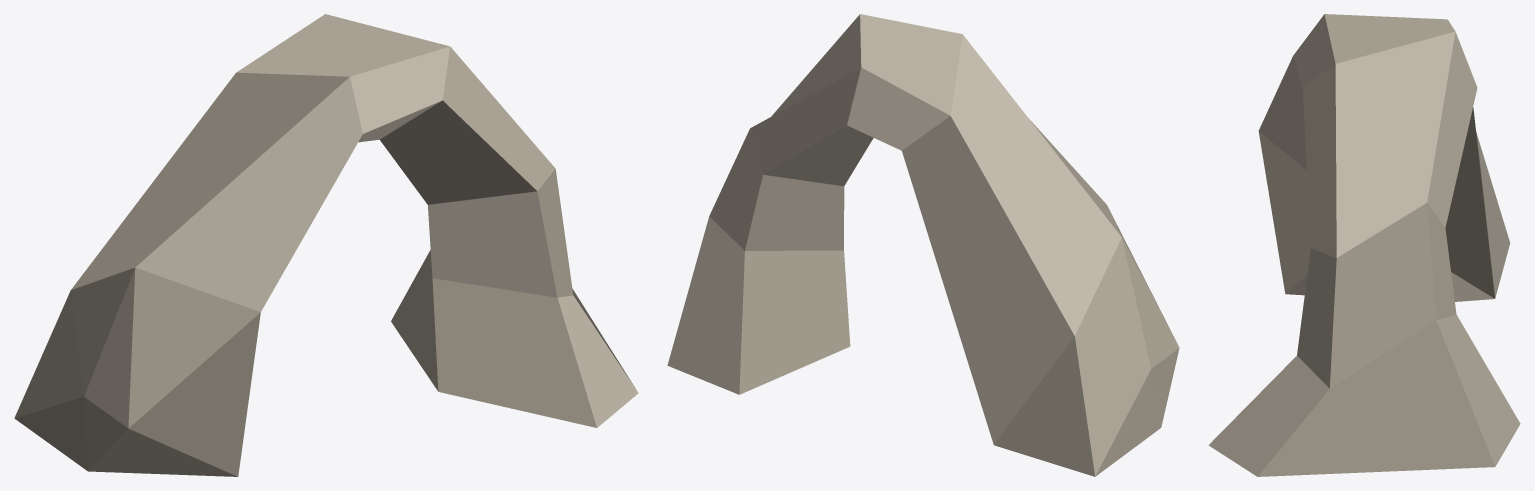
File: Rock 3.fbx
3 renders of one model, left to right at view 1: azimuth 30°, elevation 25°; view 2: azimuth 150°, elevation 25°; view 3: azimuth 270°, elevation 25°, orthographic. The views are drawn at different scales.
Parts seen in each view (by area): view 1: Rock 3; view 2: Rock 3; view 3: Rock 3.
Part boxes in pixels (<box>): Rock 3: <box>14,14,638,476</box>; Rock 3: <box>667,14,1179,476</box>; Rock 3: <box>1208,14,1520,476</box>.
Size of the model in its own units: 575 by 396 by 324.
